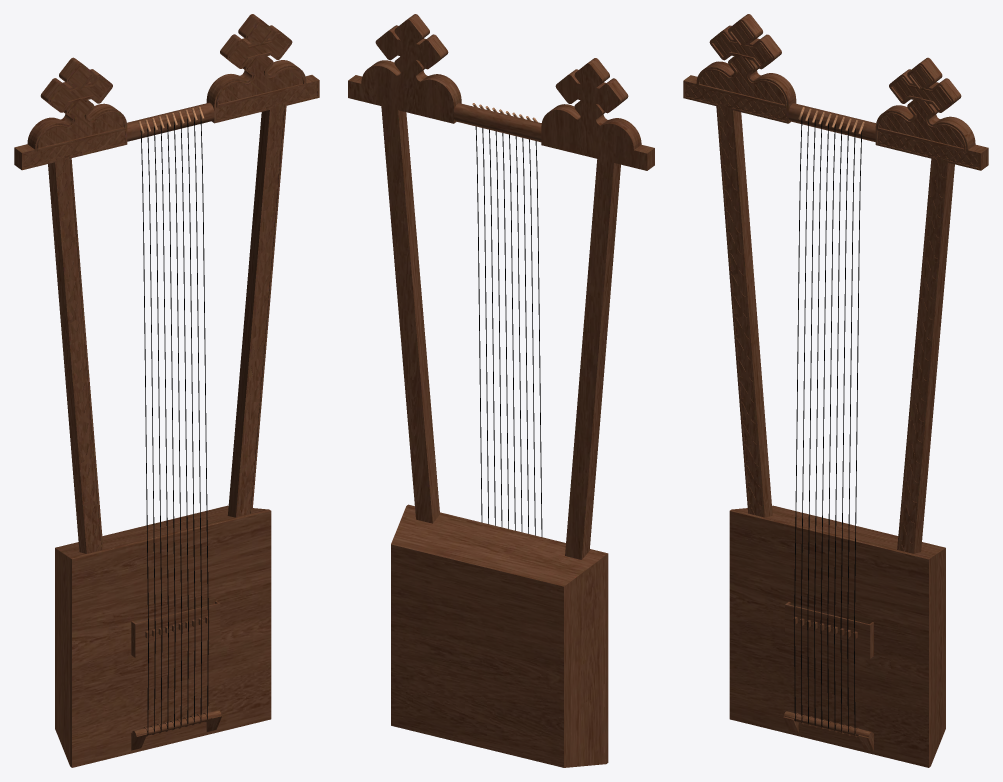
Rendered from Gebena.min.glb.
The picture shows the model from 3 angles, left to right: view 1: azimuth 30°, elevation 25°; view 2: azimuth 150°, elevation 25°; view 3: azimuth 330°, elevation 25°; orthographic projection.
Parts seen in each view (by area): view 1: Begena; view 2: Begena; view 3: Begena.
Part boxes in pixels (left/top/right/bottom): Begena: left=14, top=14, right=319, bottom=767; Begena: left=348, top=14, right=654, bottom=767; Begena: left=683, top=14, right=988, bottom=767.
Size of the model in its own units: 4.29 by 9.65 by 0.914.
3 materials, 2 textured.
